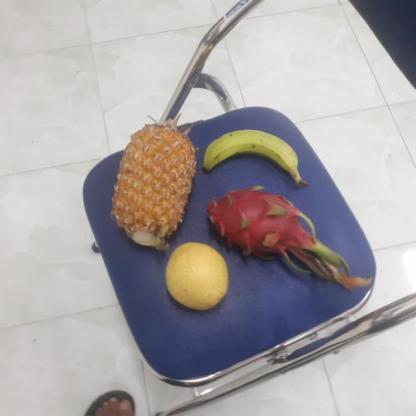banana: (202, 129, 300, 186)
pear: (162, 243, 232, 312)
pineapple: (110, 124, 197, 248)
pitaya: (200, 188, 316, 266)
